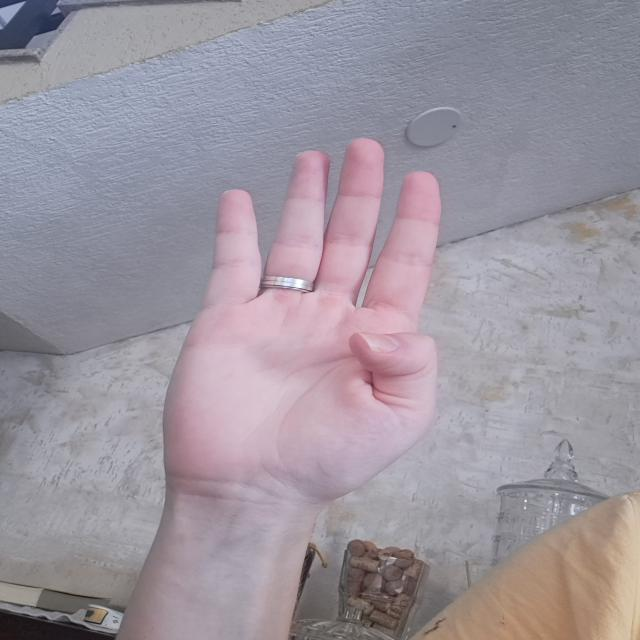B: (162, 129, 458, 508)
